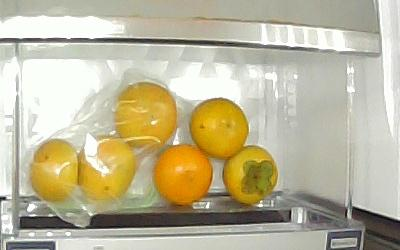persimmon: (190, 97, 250, 161), (153, 143, 213, 204), (224, 145, 279, 206)
persimmon_vinyl: (116, 82, 177, 153), (79, 134, 136, 205), (31, 139, 79, 203)
